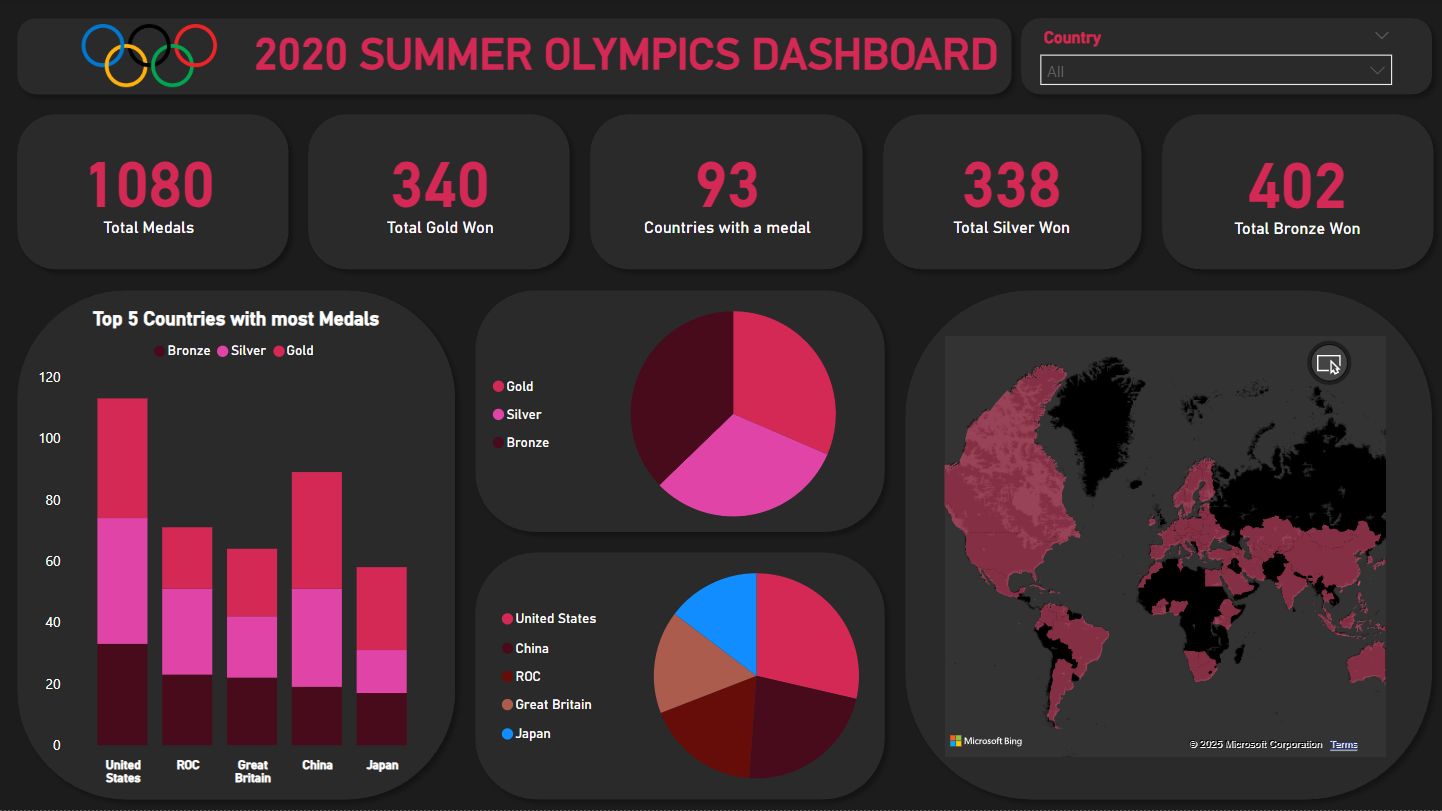

Layout of this report page (visuals, bound fields, positions):
{"tool":"powerbi","page":{"name":"Page 1","canvas":[1280,720],"ordinal":0},"visuals":[{"type":"shape","box":[515.5,94.3,259.7,155.6],"z":0},{"type":"shape","box":[6.8,8.8,899.7,85.6],"z":1000},{"type":"shape","box":[6.8,94.3,258.7,155.6],"z":2000},{"type":"shape","box":[897.8,8.8,382.2,85.6],"z":3000},{"type":"shape","box":[775.2,94.3,247.1,155.6],"z":4000},{"type":"shape","box":[1022.2,94.3,258.7,155.6],"z":5000},{"type":"shape","box":[265.5,94.3,250,155.6],"z":6000},{"type":"card","fields":{"Values":["Sum(medals.Bronze)"]},"box":[1022.2,76.8,257.8,179.9],"z":7000},{"type":"card","fields":{"Values":["Sum(medals.Gold)"]},"box":[248,94.3,286,144.9],"z":8000},{"type":"card","fields":{"Values":["Sum(medals.Silver)"]},"box":[749.9,94.3,295.7,144.9],"z":9000},{"type":"card","fields":{"Values":["Sum(medals.Total)"]},"box":[0,94.3,265.5,144.9],"z":10000},{"type":"textbox","box":[121.6,22.4,769.4,83.6],"z":11000},{"type":"slicer","fields":{"Values":["medals.Country"]},"box":[913.3,22.4,331.7,57.4],"z":12000},{"type":"card","fields":{"Values":["Count(medals.Country)"]},"box":[481.5,94.3,328.8,144.9],"z":13000},{"type":"shape","box":[6.8,250,406.6,469.8],"z":14000},{"type":"columnChart","title":"Top 5 Countries with most Medals","fields":{"Category":["medals.Country"],"Y":["Sum(medals.Bronze)","Sum(medals.Silver)","Sum(medals.Gold)"]},"box":[29.2,274.3,361.8,431.9],"z":15000},{"type":"shape","box":[794.7,250,485.3,469.8],"z":16000},{"type":"filledMap","title":"Medals won by Countries","fields":{"Category":["medals.Country"]},"box":[833.6,294.7,400.7,384.2],"z":17000},{"type":"shape","box":[413.4,250,381.3,232.5],"z":18000},{"type":"pieChart","fields":{"Y":["Sum(medals.Gold)","Sum(medals.Silver)","Sum(medals.Bronze)"]},"box":[431.9,250,377.4,237.3],"z":19000},{"type":"shape","box":[413.4,482.4,381.3,237.3],"z":20000},{"type":"pieChart","fields":{"Category":["medals.Country"],"Y":["Sum(medals.Total)"]},"box":[439.6,482.4,369.6,237.3],"z":21000},{"type":"image","box":[68.1,6.8,130.3,87.5],"z":22000}]}

Visuals, with their boxes in screenshot pixels (x1, y1, x2, y2), scaled from the page's 1280x720 canvas onto the 1442x811 screenshot:
shape: 581,106,873,281
shape: 8,10,1021,106
shape: 8,106,299,281
shape: 1011,10,1441,106
shape: 873,106,1152,281
shape: 1152,106,1441,281
shape: 299,106,581,281
card - Sum(medals.Bronze): 1152,87,1441,289
card - Sum(medals.Gold): 279,106,602,269
card - Sum(medals.Silver): 845,106,1178,269
card - Sum(medals.Total): 0,106,299,269
textbox: 137,25,1004,119
slicer - medals.Country: 1029,25,1403,90
card - Count(medals.Country): 542,106,913,269
shape: 8,282,466,810
"Top 5 Countries with most Medals" columnChart: 33,309,440,795
shape: 895,282,1441,810
"Medals won by Countries" filledMap: 939,332,1391,765
shape: 466,282,895,543
pieChart - Sum(medals.Gold) x Sum(medals.Silver): 487,282,912,549
shape: 466,543,895,810
pieChart - medals.Country x Sum(medals.Total): 495,543,912,810
image: 77,8,224,106
